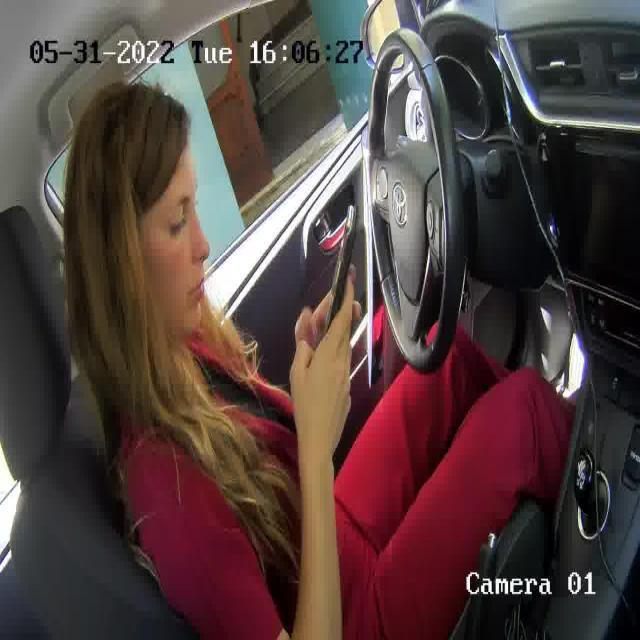Attentive: (61, 80, 210, 351)
Eye-Close: (168, 218, 189, 235)
Normal: (178, 276, 206, 298)
